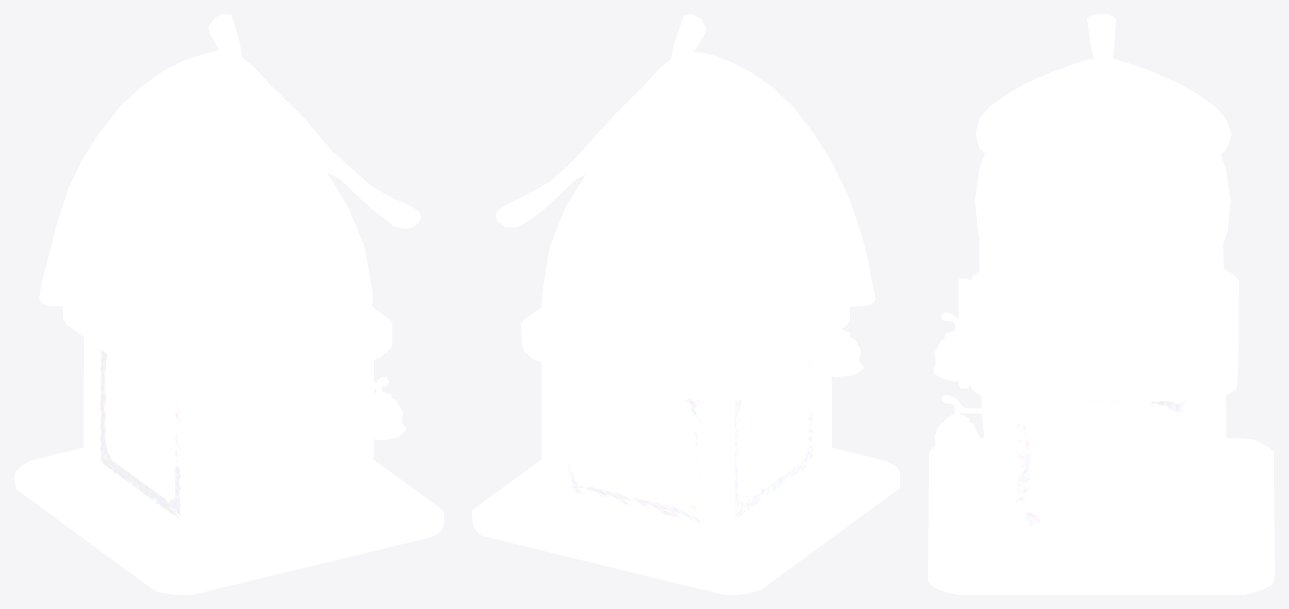
The model's file is santuario-floresta.glb.
3 views of the same model, side by side, from view 1: azimuth 30°, elevation 25°; view 2: azimuth 150°, elevation 25°; view 3: azimuth 270°, elevation 25° (orthographic). The views are drawn at different scales.
Visible parts, largest first — view 1: mesh_node; view 2: mesh_node; view 3: mesh_node.
Boxes of the visible parts, box(x1,y1,x2,y2) form: mesh_node: box(14, 14, 443, 594); mesh_node: box(472, 14, 899, 594); mesh_node: box(928, 14, 1274, 594).
Size of the model in its own units: 0.8066 by 1 by 0.6211.
1 material, 1 textured.
